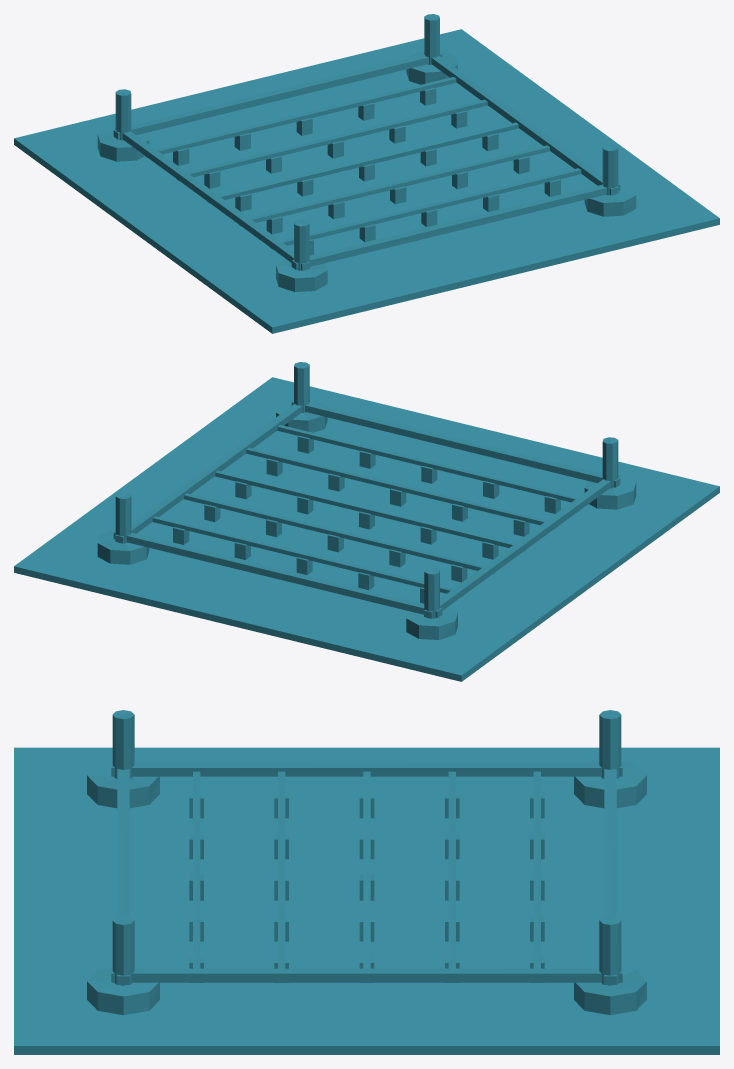
Rendered from seaweed-farm.source.glb.
3 views of the same model, one above another, from view 1: azimuth 30°, elevation 25°; view 2: azimuth 150°, elevation 25°; view 3: azimuth 270°, elevation 25° (orthographic). The views are drawn at different scales.
Parts seen in each view (by area): view 1: seaweed-farm-water-plane-mesh, seaweed-farm-frame-rail--2-mesh (×2), seaweed-farm-frame-rail-2-mesh (×2), seaweed-farm-cultivation-line-0-mesh, seaweed-farm-cultivation-line--1.4-mesh, seaweed-farm-cultivation-line-0.7-mesh, seaweed-farm-cultivation-line--0.7-mesh, seaweed-farm-cultivation-line-1.4-mesh, seaweed-farm-corner-float--2-2-mesh, seaweed-farm-corner-float-2-2-mesh, seaweed-farm-corner-float--2--2-mesh, seaweed-farm-corner-float-2--2-mesh (+4 smaller); view 2: seaweed-farm-water-plane-mesh, seaweed-farm-frame-rail--2-mesh (×2), seaweed-farm-frame-rail-2-mesh (×2), seaweed-farm-cultivation-line--0.7-mesh, seaweed-farm-cultivation-line-0-mesh, seaweed-farm-cultivation-line-0.7-mesh, seaweed-farm-cultivation-line-1.4-mesh, seaweed-farm-cultivation-line--1.4-mesh, seaweed-farm-corner-float--2--2-mesh, seaweed-farm-corner-float-2--2-mesh, seaweed-farm-corner-float--2-2-mesh, seaweed-farm-corner-float-2-2-mesh (+4 smaller); view 3: seaweed-farm-water-plane-mesh, seaweed-farm-frame-rail-2-mesh (×2), seaweed-farm-frame-rail--2-mesh (×2), seaweed-farm-corner-float-2--2-mesh, seaweed-farm-corner-float-2-2-mesh, seaweed-farm-corner-float--2--2-mesh, seaweed-farm-corner-float--2-2-mesh, seaweed-farm-cultivation-line-0-mesh, seaweed-farm-cultivation-line-1.4-mesh, seaweed-farm-cultivation-line--1.4-mesh, seaweed-farm-cultivation-line--0.7-mesh, seaweed-farm-cultivation-line-0.7-mesh (+4 smaller).
Boxes of the visible parts, x1,y1,x2,y2 form: seaweed-farm-water-plane-mesh: (14, 29, 719, 333); seaweed-farm-frame-rail--2-mesh (×2): (113, 53, 442, 270); seaweed-farm-frame-rail-2-mesh (×2): (291, 52, 620, 269); seaweed-farm-cultivation-line-0-mesh: (207, 122, 518, 203); seaweed-farm-cultivation-line--1.4-mesh: (145, 77, 456, 157); seaweed-farm-cultivation-line-0.7-mesh: (239, 145, 549, 226); seaweed-farm-cultivation-line--0.7-mesh: (177, 99, 487, 180); seaweed-farm-cultivation-line-1.4-mesh: (270, 168, 581, 249); seaweed-farm-corner-float--2-2-mesh: (276, 259, 327, 291); seaweed-farm-corner-float-2-2-mesh: (584, 181, 636, 216); seaweed-farm-corner-float--2--2-mesh: (97, 127, 149, 161); seaweed-farm-corner-float-2--2-mesh: (406, 51, 457, 84); seaweed-farm-water-plane-mesh: (14, 377, 719, 681); seaweed-farm-frame-rail--2-mesh (×2): (113, 475, 618, 618); seaweed-farm-frame-rail-2-mesh (×2): (115, 400, 620, 543); seaweed-farm-cultivation-line--0.7-mesh: (184, 493, 495, 574); seaweed-farm-cultivation-line-0-mesh: (215, 470, 526, 551); seaweed-farm-cultivation-line-0.7-mesh: (246, 447, 556, 528); seaweed-farm-cultivation-line-1.4-mesh: (277, 425, 588, 505); seaweed-farm-cultivation-line--1.4-mesh: (152, 516, 463, 597); seaweed-farm-corner-float--2--2-mesh: (406, 607, 457, 639); seaweed-farm-corner-float-2--2-mesh: (97, 529, 149, 564); seaweed-farm-corner-float--2-2-mesh: (584, 475, 636, 509); seaweed-farm-corner-float-2-2-mesh: (276, 399, 327, 432); seaweed-farm-water-plane-mesh: (14, 747, 719, 1054); seaweed-farm-frame-rail-2-mesh (×2): (111, 769, 622, 984); seaweed-farm-frame-rail--2-mesh (×2): (111, 762, 622, 984); seaweed-farm-corner-float-2--2-mesh: (574, 967, 646, 1015); seaweed-farm-corner-float-2-2-mesh: (87, 967, 159, 1015); seaweed-farm-corner-float--2--2-mesh: (574, 762, 646, 808); seaweed-farm-corner-float--2-2-mesh: (87, 762, 159, 808); seaweed-farm-cultivation-line-0-mesh: (363, 771, 370, 982); seaweed-farm-cultivation-line-1.4-mesh: (193, 771, 200, 982); seaweed-farm-cultivation-line--1.4-mesh: (533, 771, 540, 982); seaweed-farm-cultivation-line--0.7-mesh: (448, 771, 455, 982); seaweed-farm-cultivation-line-0.7-mesh: (278, 771, 285, 982).
Bounding box in the file's own units: 5.8 × 1.26 × 5.8.
